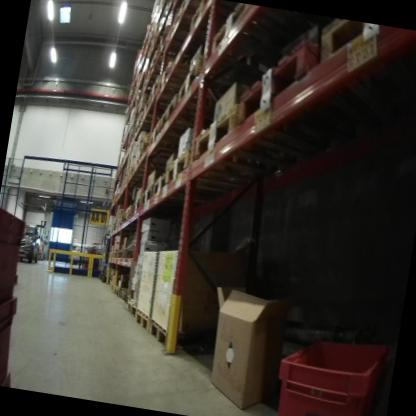pallet: (233, 25, 392, 169), (191, 93, 335, 191), (304, 16, 416, 100), (165, 134, 285, 210), (172, 47, 245, 125), (203, 1, 274, 66), (150, 165, 230, 217), (147, 115, 209, 167), (159, 89, 214, 139), (146, 317, 215, 355), (159, 54, 206, 102), (183, 0, 228, 40), (135, 73, 166, 121), (134, 143, 172, 179), (131, 303, 155, 335), (141, 181, 154, 212), (123, 242, 141, 261), (131, 193, 143, 220), (119, 201, 134, 221), (125, 296, 138, 317), (115, 243, 129, 260), (112, 283, 124, 301), (121, 289, 131, 309), (118, 287, 126, 301)
small_load_carrier: (262, 303, 392, 416)
